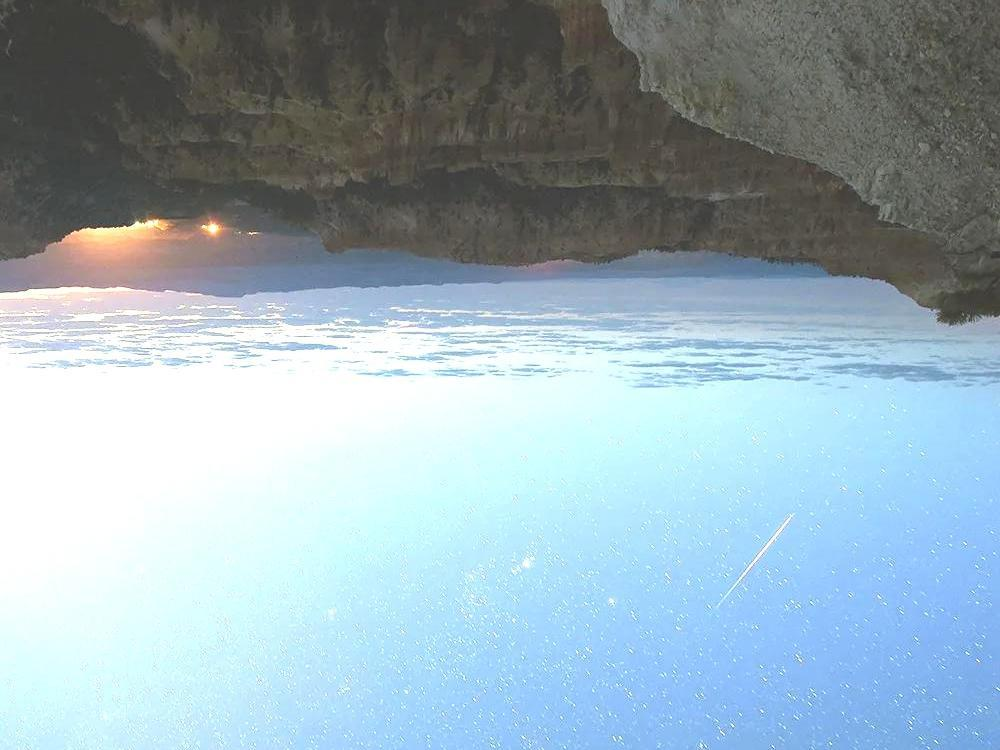meteorite: (704, 514, 802, 609)
